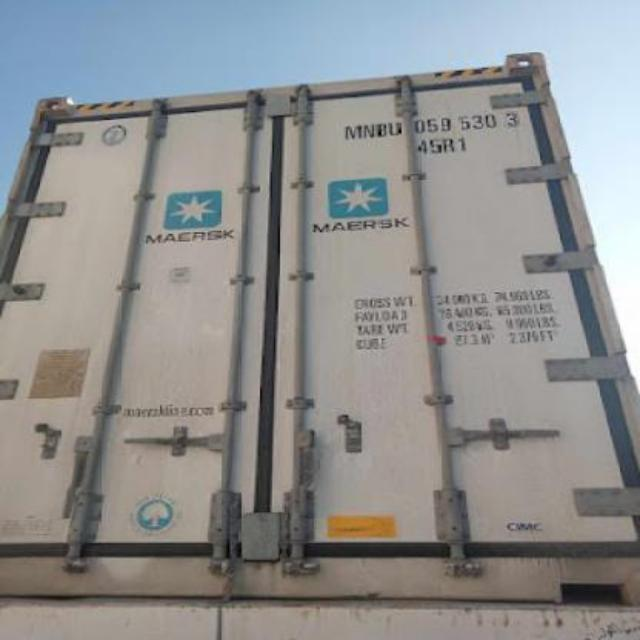0: (484, 108, 498, 134), (412, 114, 426, 136)
3: (504, 108, 520, 128), (471, 111, 484, 132)
5: (454, 110, 470, 132), (424, 114, 438, 134)
9: (438, 112, 452, 134)
B: (372, 116, 386, 140)
M: (342, 117, 362, 143)
N: (362, 118, 374, 140)
U: (386, 119, 402, 137)
